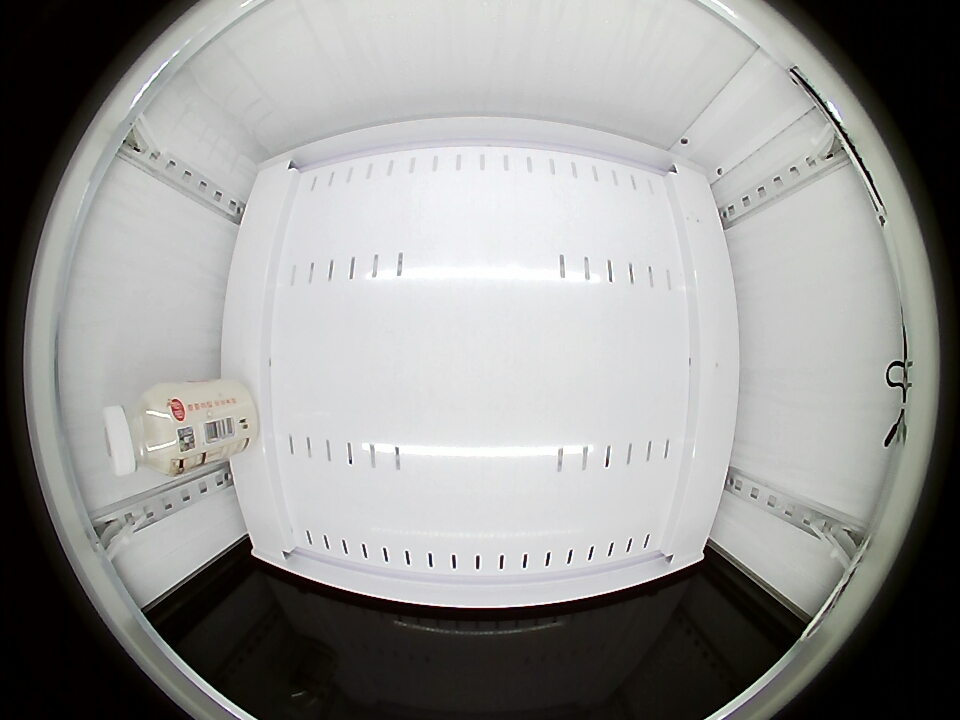weiweidounai: (101, 387, 187, 477)
